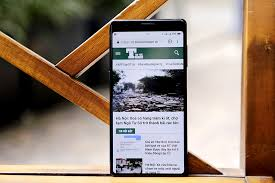bphone: (106, 18, 188, 176)
